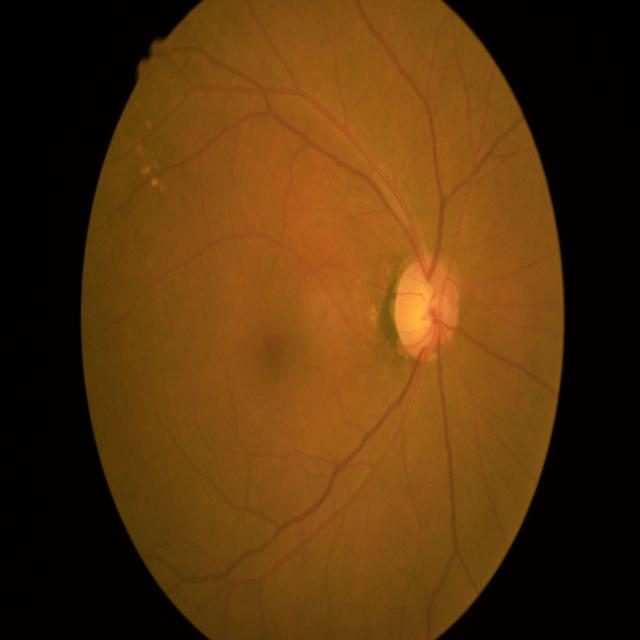cup: (404, 278, 451, 348)
disk: (396, 258, 458, 361)
